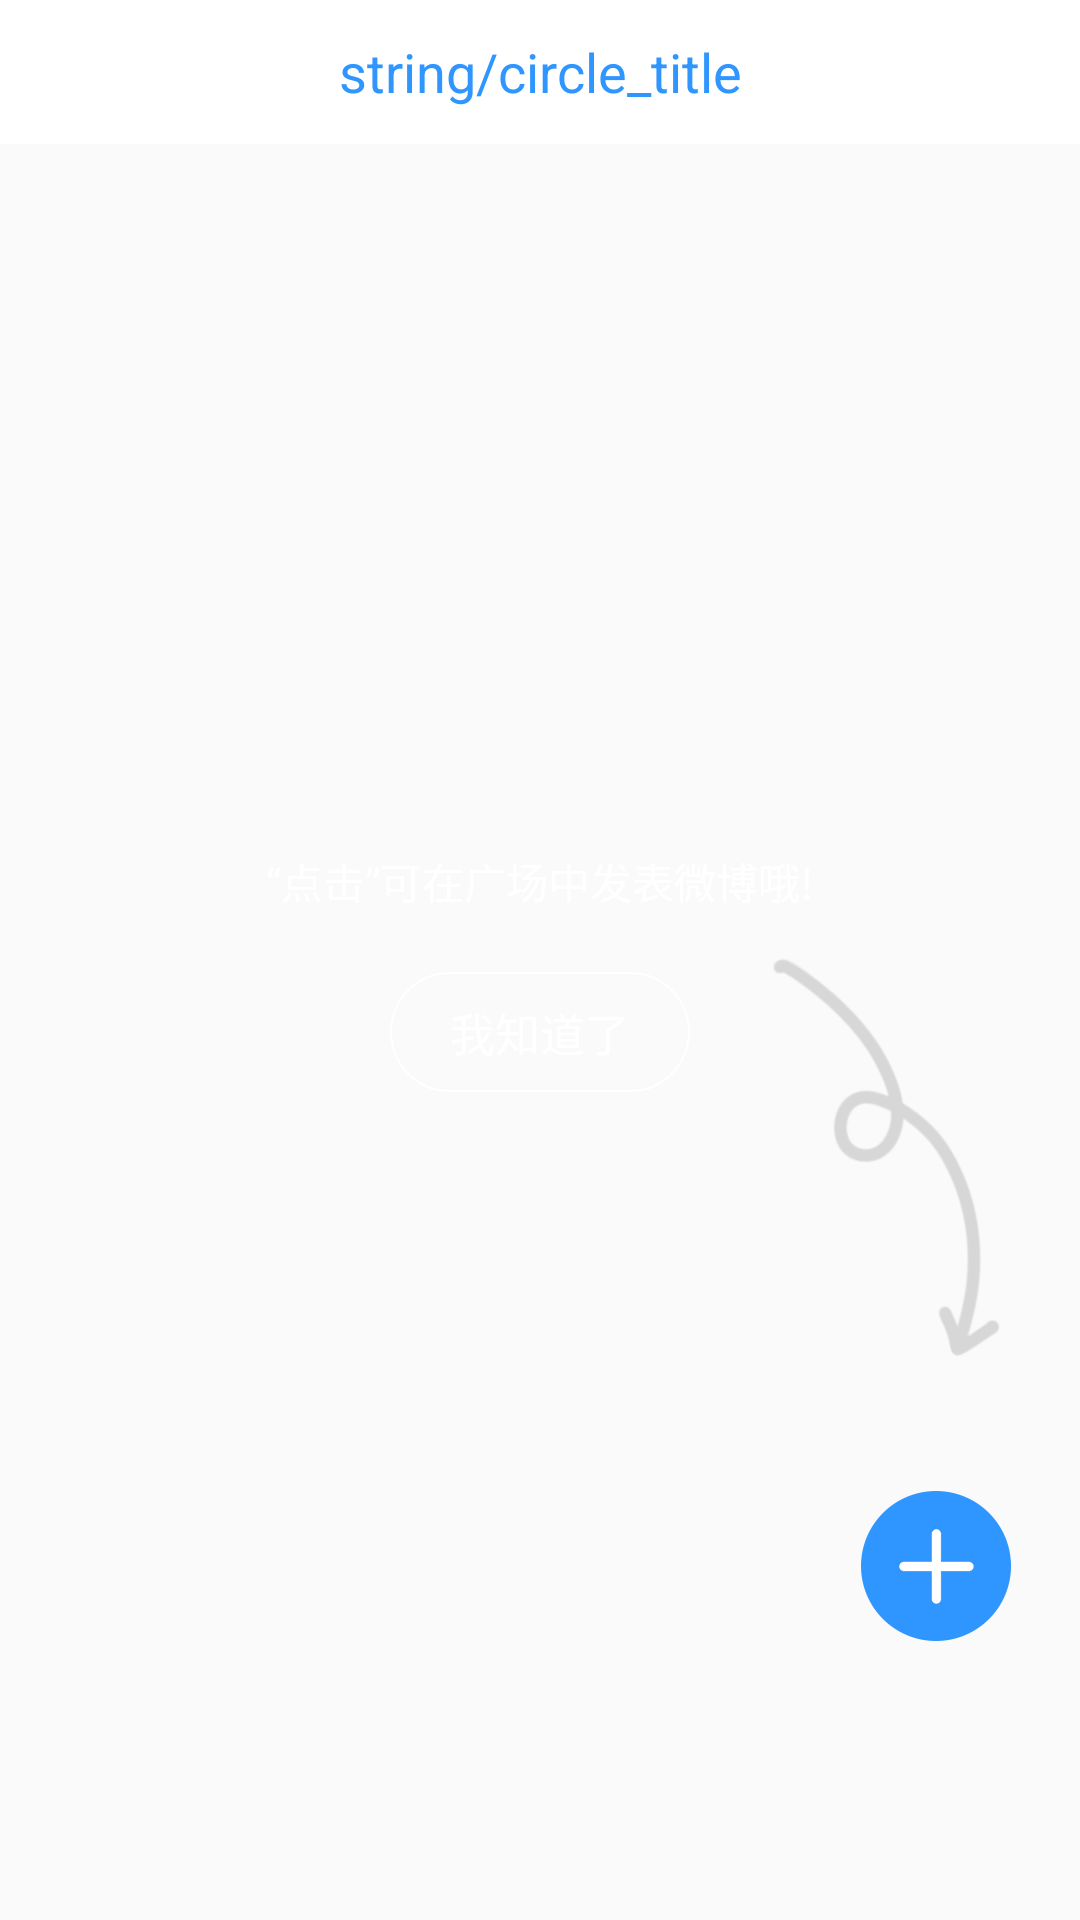

Where icons sit on this 1080*1920 app screen, as BBox(x1, y1, x2, y2):
add circle: BBox(861, 1491, 1011, 1641)
